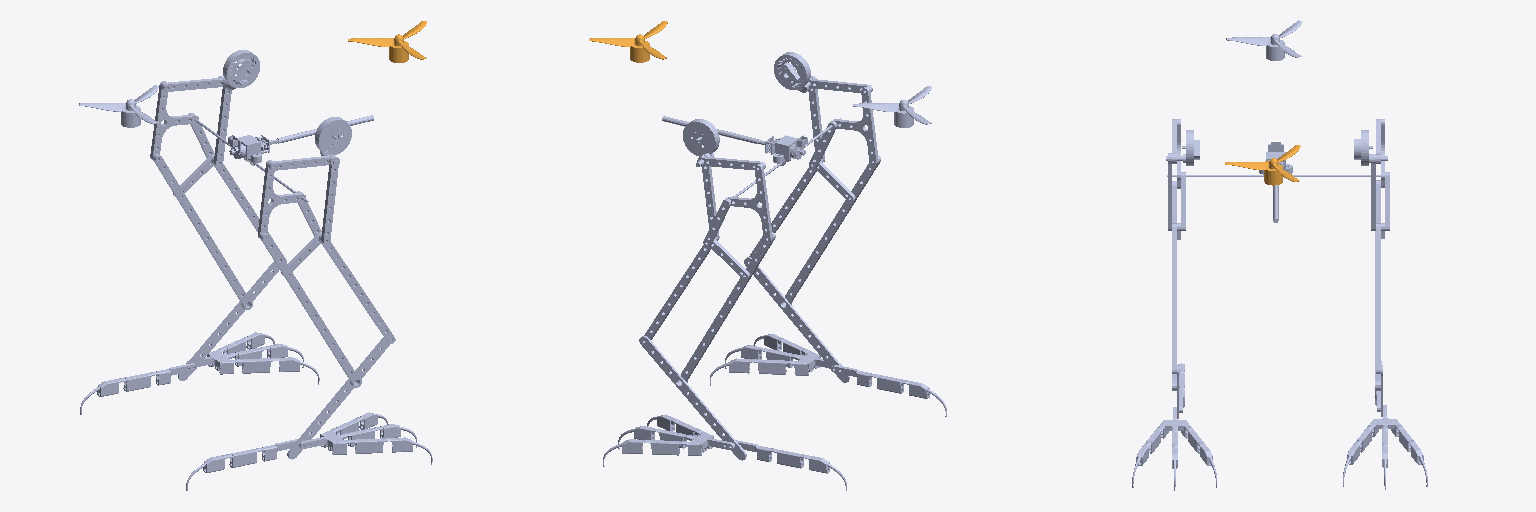
--- Facts derived from the render (not from the file) ---
3 views of the same robot in one strip: view 1: azimuth 30°, elevation 25°; view 2: azimuth 150°, elevation 25°; view 3: azimuth 270°, elevation 25° (orthographic).
Robot: Assem2for_urdf — 26 links, 25 joints (18 revolute, 4 continuous, 1 prismatic, 2 fixed); root link base_link; default pose: all joints at 0.
Visible links, largest first — view 1: foot_link_1, foot_link_2, link_BG_2, link_BG_1, link_TK, link_EH_1, link_EH_2, chilun_1, link_DE_1, rotor_1, rotor_2, link_AB_1 (+7 smaller); view 2: foot_link_2, foot_link_1, link_EH_2, link_TK, link_BG_2, link_BG_1, link_EH_1, chilun_2, link_AB_2, rotor_2, rotor_1, link_AB_1 (+6 smaller); view 3: foot_link_1, foot_link_2, link_TK, rotor_2, rotor_1, link_DE_1, link_DE_2.
Boxes of the visible links, <box> form: foot_link_1: <box>186,412,432,490</box>; foot_link_2: <box>80,332,319,414</box>; link_BG_2: <box>153,154,252,309</box>; link_BG_1: <box>260,233,361,387</box>; link_TK: <box>195,115,373,202</box>; link_EH_1: <box>287,337,389,459</box>; link_EH_2: <box>178,261,279,380</box>; chilun_1: <box>315,117,351,165</box>; link_DE_1: <box>319,235,395,343</box>; rotor_1: <box>348,21,426,62</box>; rotor_2: <box>79,85,158,127</box>; link_AB_1: <box>258,160,305,237</box>; foot_link_2: <box>603,414,846,490</box>; foot_link_1: <box>710,334,946,416</box>; link_EH_2: <box>639,336,746,460</box>; link_TK: <box>662,116,841,204</box>; link_BG_2: <box>678,232,775,384</box>; link_BG_1: <box>782,155,880,306</box>; link_EH_1: <box>744,257,849,382</box>; chilun_2: <box>683,119,719,166</box>; link_AB_2: <box>728,164,772,242</box>; rotor_2: <box>853,86,931,127</box>; rotor_1: <box>589,21,667,62</box>; link_AB_1: <box>833,87,878,165</box>; foot_link_1: <box>1132,363,1216,490</box>; foot_link_2: <box>1343,361,1427,489</box>; link_TK: <box>1167,142,1380,222</box>; rotor_2: <box>1226,20,1301,60</box>; rotor_1: <box>1225,145,1300,185</box>; link_DE_1: <box>1172,223,1176,373</box>; link_DE_2: <box>1376,223,1380,373</box>.
Bounding box of the posed robot: 0.2916 × 0.226 × 0.2945 m (x, y, z).
25 mesh visuals loaded from 26 distinct referenced files (25 binary STL); not drawn: 1 (reference not matched to a file when rendering).

The robot description file, URDF, robot "Assem2for_urdf":
<?xml version="1.0" encoding="utf-8"?>
<!-- This URDF was automatically created by SolidWorks to URDF Exporter! Originally created by Stephen Brawner ([email redacted]) 
     Commit Version: 1.6.0-4-g7f85cfe  Build Version: 1.6.7995.38578
     For more information, please see http://wiki.ros.org/sw_urdf_exporter -->
<robot
  name="Assem2for_urdf">
  
  <mujoco>
        <compiler 
        meshdir="../meshes/" 
        balanceinertia="true" 
        discardvisual="false" />
  </mujoco>
  
  
  <link
    name="base_link">
    <inertial>
      <origin
        xyz="0.01383 -7.6375E-05 -0.0088653"
        rpy="0 0 0" />
      <mass
        value="0.044953" />
      <inertia
        ixx="6.3617E-06"
        ixy="4.2749E-09"
        ixz="-9.6067E-10"
        iyy="3.2431E-05"
        iyz="4.0621E-09"
        izz="3.4835E-05" />
    </inertial>
    <visual>
      <origin
        xyz="0 0 0"
        rpy="0 0 0" />
      <geometry>
        <mesh
          filename="package://Assem2for_urdf/meshes/base_link.STL" />
      </geometry>
      <material
        name="">
        <color
          rgba="0.79216 0.81961 0.93333 1" />
      </material>
    </visual>
    <collision>
      <origin
        xyz="0 0 0"
        rpy="0 0 0" />
      <geometry>
        <mesh
          filename="package://Assem2for_urdf/meshes/base_link.STL" />
      </geometry>
    </collision>
  </link>
  <link
    name="jilun_right">
    <inertial>
      <origin
        xyz="0.022975 -0.061362 -0.016909"
        rpy="0 0 0" />
      <mass
        value="0.00086629" />
      <inertia
        ixx="1.3518E-08"
        ixy="-2.545E-10"
        ixz="4.0882E-10"
        iyy="2.1468E-08"
        iyz="-1.2227E-10"
        izz="1.6056E-08" />
    </inertial>
    <visual>
      <origin
        xyz="0 0 0"
        rpy="0 0 0" />
      <geometry>
        <mesh
          filename="package://Assem2for_urdf/meshes/jilun_right.STL" />
      </geometry>
      <material
        name="">
        <color
          rgba="0.79216 0.81961 0.93333 1" />
      </material>
    </visual>
    <collision>
      <origin
        xyz="0 0 0"
        rpy="0 0 0" />
      <geometry>
        <mesh
          filename="package://Assem2for_urdf/meshes/jilun_right.STL" />
      </geometry>
    </collision>
  </link>
  <joint
    name="joint_jilun_right"
    type="fixed">
    <origin
      xyz="0 0 0"
      rpy="0 0 0" />
    <parent
      link="base_link" />
    <child
      link="jilun_right" />
    <axis
      xyz="0 0 0" />
  </joint>
  <link
    name="chilun_1">
    <inertial>
      <origin
        xyz="0.0022183 -2.2192E-09 0.004453"
        rpy="0 0 0" />
      <mass
        value="0.0021421" />
      <inertia
        ixx="1.5537E-07"
        ixy="7.5064E-14"
        ixz="-2.7764E-08"
        iyy="2.159E-07"
        iyz="2.1494E-14"
        izz="3.1632E-07" />
    </inertial>
    <visual>
      <origin
        xyz="0 0 0"
        rpy="0 0 0" />
      <geometry>
        <mesh
          filename="package://Assem2for_urdf/meshes/chilun_1.STL" />
      </geometry>
      <material
        name="">
        <color
          rgba="0.79216 0.81961 0.93333 1" />
      </material>
    </visual>
    <collision>
      <origin
        xyz="0 0 0"
        rpy="0 0 0" />
      <geometry>
        <mesh
          filename="package://Assem2for_urdf/meshes/chilun_1.STL" />
      </geometry>
    </collision>
  </link>
  <joint
    name="joint_chilun_1"
    type="continuous">
    <origin
      xyz="0.023247 -0.0628 -0.0145"
      rpy="-1.5708 1.0104 -3.1416" />
    <parent
      link="jilun_right" />
    <child
      link="chilun_1" />
    <axis
      xyz="0 0 -1" />
  </joint>
  <link
    name="link_FA_1">
    <inertial>
      <origin
        xyz="0.0246333232557654 1.45621362190873E-13 0.00624999999978681"
        rpy="0 0 0" />
      <mass
        value="0.00105325753601572" />
      <inertia
        ixx="4.68108106964215E-09"
        ixy="-6.35378108017296E-23"
        ixz="6.61326597503312E-23"
        iyy="2.68987972561917E-07"
        iyz="3.65608046107849E-24"
        izz="2.71518652828861E-07" />
    </inertial>
    <visual>
      <origin
        xyz="0 0 0"
        rpy="0 0 0" />
      <geometry>
        <mesh
          filename="package://Assem2for_urdf/meshes/link_FA_1.STL" />
      </geometry>
      <material
        name="">
        <color
          rgba="0.792156862745098 0.819607843137255 0.933333333333333 1" />
      </material>
    </visual>
    <collision>
      <origin
        xyz="0 0 0"
        rpy="0 0 0" />
      <geometry>
        <mesh
          filename="package://Assem2for_urdf/meshes/link_FA_1.STL" />
      </geometry>
    </collision>
  </link>
  <joint
    name="joint_FA_1"
    type="revolute">
    <origin
      xyz="0.015 0 0.021"
      rpy="3.1416 0 -1.1439" />
    <parent
      link="chilun_1" />
    <child
      link="link_FA_1" />
    <axis
      xyz="0 0 -1" />
    <limit
      lower="0"
      upper="0"
      effort="0"
      velocity="0" />
  </joint>
  <link
    name="link_AB_1">
    <inertial>
      <origin
        xyz="0.0282463263721763 0.00564538612792358 -0.00175"
        rpy="0 0 0" />
      <mass
        value="0.00182763409338447" />
      <inertia
        ixx="1.58862057800838E-07"
        ixy="-7.01390587639972E-09"
        ixz="3.05014959485128E-23"
        iyy="3.62632855422073E-07"
        iyz="4.605957954204E-22"
        izz="5.17763493615584E-07" />
    </inertial>
    <visual>
      <origin
        xyz="0 0 0"
        rpy="0 0 0" />
      <geometry>
        <mesh
          filename="package://Assem2for_urdf/meshes/link_AB_1.STL" />
      </geometry>
      <material
        name="">
        <color
          rgba="0.792156862745098 0.819607843137255 0.933333333333333 1" />
      </material>
    </visual>
    <collision>
      <origin
        xyz="0 0 0"
        rpy="0 0 0" />
      <geometry>
        <mesh
          filename="package://Assem2for_urdf/meshes/link_AB_1.STL" />
      </geometry>
    </collision>
  </link>
  <joint
    name="joint_AB_1"
    type="revolute">
    <origin
      xyz="0.05 0 0.008"
      rpy="-3.1416 0 -1.5777" />
    <parent
      link="link_FA_1" />
    <child
      link="link_AB_1" />
    <axis
      xyz="0 0 1" />
    <limit
      lower="0"
      upper="0"
      effort="0"
      velocity="0" />
  </joint>
  <link
    name="link_BG_1">
    <inertial>
      <origin
        xyz="0.0768929529997299 -4.59077220682502E-14 0.00200000000021816"
        rpy="0 0 0" />
      <mass
        value="0.00359050030856375" />
      <inertia
        ixx="1.6349672466771E-08"
        ixy="-4.91345283856498E-22"
        ixz="-5.11425047457692E-22"
        iyy="7.49028146095683E-06"
        iyz="4.51428599720827E-25"
        izz="7.4970564659341E-06" />
    </inertial>
    <visual>
      <origin
        xyz="0 0 0"
        rpy="0 0 0" />
      <geometry>
        <mesh
          filename="package://Assem2for_urdf/meshes/link_BG_1.STL" />
      </geometry>
      <material
        name="">
        <color
          rgba="0.792156862745098 0.819607843137255 0.933333333333333 1" />
      </material>
    </visual>
    <collision>
      <origin
        xyz="0 0 0"
        rpy="0 0 0" />
      <geometry>
        <mesh
          filename="package://Assem2for_urdf/meshes/link_BG_1.STL" />
      </geometry>
    </collision>
  </link>
  <joint
    name="joint_BG_1"
    type="revolute">
    <origin
      xyz="0.0558 0 0"
      rpy="0 0 0.64657" />
    <parent
      link="link_AB_1" />
    <child
      link="link_BG_1" />
    <axis
      xyz="0 0 1" />
    <limit
      lower="0"
      upper="0"
      effort="0"
      velocity="0" />
  </joint>
  <link
    name="link_FD_1">
    <inertial>
      <origin
        xyz="0.0305971932030827 3.88231113923609E-14 -0.00275000000000106"
        rpy="0 0 0" />
      <mass
        value="0.0012859769511914" />
      <inertia
        ixx="5.66163764002029E-09"
        ixy="1.05465528100511E-22"
        ixz="4.45351821521352E-23"
        iyy="4.84773867218684E-07"
        iyz="1.24040124954197E-23"
        izz="4.87809968583355E-07" />
    </inertial>
    <visual>
      <origin
        xyz="0 0 0"
        rpy="0 0 0" />
      <geometry>
        <mesh
          filename="package://Assem2for_urdf/meshes/link_FD_1.STL" />
      </geometry>
      <material
        name="">
        <color
          rgba="0.792156862745098 0.819607843137255 0.933333333333333 1" />
      </material>
    </visual>
    <collision>
      <origin
        xyz="0 0 0"
        rpy="0 0 0" />
      <geometry>
        <mesh
          filename="package://Assem2for_urdf/meshes/link_FD_1.STL" />
      </geometry>
    </collision>
  </link>
  <joint
    name="joint_FD_1"
    type="revolute">
    <origin
      xyz="0.015 0 0.021"
      rpy="0 0 0.44354" />
    <parent
      link="chilun_1" />
    <child
      link="link_FD_1" />
    <axis
      xyz="0 0 1" />
    <limit
      lower="0"
      upper="0"
      effort="0"
      velocity="0" />
  </joint>
  <link
    name="link_DC_1">
    <inertial>
      <origin
        xyz="0.0183308082348174 1.79078973872038E-13 -0.00524999999999581"
        rpy="0 0 0" />
      <mass
        value="0.000778946680715672" />
      <inertia
        ixx="3.29759266495531E-09"
        ixy="-4.57017288435548E-23"
        ixz="2.25252285245537E-23"
        iyy="1.09437072463202E-07"
        iyz="2.29272390470318E-24"
        izz="1.11144315655029E-07" />
    </inertial>
    <visual>
      <origin
        xyz="0 0 0"
        rpy="0 0 0" />
      <geometry>
        <mesh
          filename="package://Assem2for_urdf/meshes/link_DC_1.STL" />
      </geometry>
      <material
        name="">
        <color
          rgba="0.792156862745098 0.819607843137255 0.933333333333333 1" />
      </material>
    </visual>
    <collision>
      <origin
        xyz="0 0 0"
        rpy="0 0 0" />
      <geometry>
        <mesh
          filename="package://Assem2for_urdf/meshes/link_DC_1.STL" />
      </geometry>
    </collision>
  </link>
  <joint
    name="joint_DC_1"
    type="revolute">
    <origin
      xyz="0.0619 0 -0.0045"
      rpy="0 0 -0.83095" />
    <parent
      link="link_FD_1" />
    <child
      link="link_DC_1" />
    <axis
      xyz="0 0 1" />
    <limit
      lower="0"
      upper="0"
      effort="0"
      velocity="0" />
  </joint>
  <link
    name="link_DE_1">
    <inertial>
      <origin
        xyz="0.0549831283740909 -6.49931497509471E-14 -0.00174999999996561"
        rpy="0 0 0" />
      <mass
        value="0.00221516317176975" />
      <inertia
        ixx="9.34136333722385E-09"
        ixy="-6.58849357898487E-22"
        ixz="-1.63839071886067E-22"
        iyy="2.436604063585E-06"
        iyz="1.35346460713052E-24"
        izz="2.44142280211319E-06" />
    </inertial>
    <visual>
      <origin
        xyz="0 0 0"
        rpy="0 0 0" />
      <geometry>
        <mesh
          filename="package://Assem2for_urdf/meshes/link_DE_1.STL" />
      </geometry>
      <material
        name="">
        <color
          rgba="0.792156862745098 0.819607843137255 0.933333333333333 1" />
      </material>
    </visual>
    <collision>
      <origin
        xyz="0 0 0"
        rpy="0 0 0" />
      <geometry>
        <mesh
          filename="package://Assem2for_urdf/meshes/link_DE_1.STL" />
      </geometry>
    </collision>
  </link>
  <joint
    name="joint_DE_1"
    type="revolute">
    <origin
      xyz="0.0619 0 -0.0045"
      rpy="0 0 0.6597" />
    <parent
      link="link_FD_1" />
    <child
      link="link_DE_1" />
    <axis
      xyz="0 0 1" />
    <limit
      lower="0"
      upper="0"
      effort="0"
      velocity="0" />
  </joint>
  <link
    name="link_EH_1">
    <inertial>
      <origin
        xyz="0.0555555680512242 0 0.000999999999999973"
        rpy="0 0 0" />
      <mass
        value="0.00172856836550083" />
      <inertia
        ixx="1.02647415675761E-08"
        ixy="-4.87209380793733E-22"
        ixz="-2.64644119038406E-22"
        iyy="1.99782860596515E-06"
        iyz="1.85485309027581E-23"
        izz="2.00694096862239E-06" />
    </inertial>
    <visual>
      <origin
        xyz="0 0 0"
        rpy="0 0 0" />
      <geometry>
        <mesh
          filename="package://Assem2for_urdf/meshes/link_EH_1.STL" />
      </geometry>
      <material
        name="">
        <color
          rgba="0.792156862745098 0.819607843137255 0.933333333333333 1" />
      </material>
    </visual>
    <collision>
      <origin
        xyz="0 0 0"
        rpy="0 0 0" />
      <geometry>
        <mesh
          filename="package://Assem2for_urdf/meshes/link_EH_1.STL" />
      </geometry>
    </collision>
  </link>
  <joint
    name="joint_EH_1"
    type="revolute">
    <origin
      xyz="0.11 0 -0.0055"
      rpy="0 0 -1.3718" />
    <parent
      link="link_DE_1" />
    <child
      link="link_EH_1" />
    <axis
      xyz="0 0 1" />
    <limit
      lower="0"
      upper="0"
      effort="0"
      velocity="0" />
  </joint>
  <link
    name="foot_link_1">
    <inertial>
      <origin
        xyz="0.0241979475068316 -0.00295431788670633 0.00220249728251601"
        rpy="0 0 0" />
      <mass
        value="0.00779860283571665" />
      <inertia
        ixx="1.32660666469823E-06"
        ixy="4.67049796891614E-08"
        ixz="-3.52628898020332E-12"
        iyy="4.90887427618285E-06"
        iyz="1.41970664171107E-10"
        izz="3.74277302164067E-06" />
    </inertial>
    <visual>
      <origin
        xyz="0 0 0"
        rpy="0 0 0" />
      <geometry>
        <mesh
          filename="package://Assem2for_urdf/meshes/foot_link_1.STL" />
      </geometry>
      <material
        name="">
        <color
          rgba="0.792156862745098 0.819607843137255 0.933333333333333 1" />
      </material>
    </visual>
    <collision>
      <origin
        xyz="0 0 0"
        rpy="0 0 0" />
      <geometry>
        <mesh
          filename="package://Assem2for_urdf/meshes/foot_link_1.STL" />
      </geometry>
    </collision>
  </link>
  <joint
    name="joint_foot_1"
    type="revolute">
    <origin
      xyz="0.1005 0 0"
      rpy="0 0 2.362" />
    <parent
      link="link_EH_1" />
    <child
      link="foot_link_1" />
    <axis
      xyz="0 0 1" />
    <limit
      lower="0"
      upper="0"
      effort="0"
      velocity="0" />
  </joint>
  <link
    name="link_TK">
    <inertial>
      <origin
        xyz="0.011254416729477 0.00870593530813178 -0.000213353631255166"
        rpy="0 0 0" />
      <mass
        value="0.005193221469128" />
      <inertia
        ixx="1.40931785026129E-06"
        ixy="3.53282463559805E-08"
        ixz="-9.11084204655225E-11"
        iyy="5.01708865198891E-06"
        iyz="3.07013904106478E-10"
        izz="3.68575837675166E-06" />
    </inertial>
    <visual>
      <origin
        xyz="0 0 0"
        rpy="0 0 0" />
      <geometry>
        <mesh
          filename="package://Assem2for_urdf/meshes/link_TK.STL" />
      </geometry>
      <material
        name="">
        <color
          rgba="0.792156862745098 0.819607843137255 0.933333333333333 1" />
      </material>
    </visual>
    <collision>
      <origin
        xyz="0 0 0"
        rpy="0 0 0" />
      <geometry>
        <mesh
          filename="package://Assem2for_urdf/meshes/link_TK.STL" />
      </geometry>
    </collision>
  </link>
  <joint
    name="joint_TK"
    type="prismatic">
    <origin
      xyz="-0.0084101 0 -0.053"
      rpy="1.5708 0 0" />
    <parent
      link="base_link" />
    <child
      link="link_TK" />
    <axis
      xyz="1 0 0" />
    <limit
      lower="0"
      upper="0"
      effort="0"
      velocity="0" />
  </joint>
  <link
    name="link_KD_1">
    <inertial>
      <origin
        xyz="0.0196511163534947 -8.90017226584661E-14 -0.0052500000000536"
        rpy="0 0 0" />
      <mass
        value="0.00083354668071567" />
      <inertia
        ixx="3.51713016495529E-09"
        ixy="1.05465528100511E-23"
        ixz="-5.99644069589385E-23"
        iyy="1.33344494294091E-07"
        iyz="-1.62376674919852E-24"
        izz="1.35159799985918E-07" />
    </inertial>
    <visual>
      <origin
        xyz="0 0 0"
        rpy="0 0 0" />
      <geometry>
        <mesh
          filename="package://Assem2for_urdf/meshes/link_KD_1.STL" />
      </geometry>
      <material
        name="">
        <color
          rgba="0.792156862745098 0.819607843137255 0.933333333333333 1" />
      </material>
    </visual>
    <collision>
      <origin
        xyz="0 0 0"
        rpy="0 0 0" />
      <geometry>
        <mesh
          filename="package://Assem2for_urdf/meshes/link_KD_1.STL" />
      </geometry>
    </collision>
  </link>
  <joint
    name="joint_KD_1"
    type="revolute">
    <origin
      xyz="0 0 0.0758"
      rpy="0 0 -1.1384" />
    <parent
      link="link_TK" />
    <child
      link="link_KD_1" />
    <axis
      xyz="0 0 -1" />
    <limit
      lower="0"
      upper="0"
      effort="0"
      velocity="0" />
  </joint>
  <link
    name="link_KD_2">
    <inertial>
      <origin
        xyz="0.0196511163529499 5.87835335963405E-13 0.00525000000070104"
        rpy="0 0 0" />
      <mass
        value="0.000833546680715672" />
      <inertia
        ixx="3.5171301649553E-09"
        ixy="-2.016252743098E-23"
        ixz="-1.84856832986433E-24"
        iyy="1.33344494294091E-07"
        iyz="2.82062920033513E-24"
        izz="1.35159799985918E-07" />
    </inertial>
    <visual>
      <origin
        xyz="0 0 0"
        rpy="0 0 0" />
      <geometry>
        <mesh
          filename="package://Assem2for_urdf/meshes/link_KD_2.STL" />
      </geometry>
      <material
        name="">
        <color
          rgba="0.792156862745098 0.819607843137255 0.933333333333333 1" />
      </material>
    </visual>
    <collision>
      <origin
        xyz="0 0 0"
        rpy="0 0 0" />
      <geometry>
        <mesh
          filename="package://Assem2for_urdf/meshes/link_KD_2.STL" />
      </geometry>
    </collision>
  </link>
  <joint
    name="joint_KD_2"
    type="revolute">
    <origin
      xyz="0 0 -0.08"
      rpy="-3.1416 0 -1.1473" />
    <parent
      link="link_TK" />
    <child
      link="link_KD_2" />
    <axis
      xyz="0 0 1" />
    <limit
      lower="0"
      upper="0"
      effort="0"
      velocity="0" />
  </joint>
  <link
    name="jilun_left">
    <inertial>
      <origin
        xyz="0.0261522898502984 0.0635617576097662 -0.0137649945988409"
        rpy="0 0 0" />
      <mass
        value="0.000866292548484724" />
      <inertia
        ixx="1.60069370693742E-08"
        ixy="-1.4407040983176E-10"
        ixz="4.92305017577628E-10"
        iyy="2.1467751795001E-08"
        iyz="-2.42733876740918E-10"
        izz="1.35665058607585E-08" />
    </inertial>
    <visual>
      <origin
        xyz="0 0 0"
        rpy="0 0 0" />
      <geometry>
        <mesh
          filename="package://Assem2for_urdf/meshes/jilun_left.STL" />
      </geometry>
      <material
        name="">
        <color
          rgba="0.792156862745098 0.819607843137255 0.933333333333333 1" />
      </material>
    </visual>
    <collision>
      <origin
        xyz="0 0 0"
        rpy="0 0 0" />
      <geometry>
        <mesh
          filename="package://Assem2for_urdf/meshes/jilun_left.STL" />
      </geometry>
    </collision>
  </link>
  <joint
    name="joint_jilun_2"
    type="fixed">
    <origin
      xyz="0 0 0"
      rpy="0 0 0" />
    <parent
      link="base_link" />
    <child
      link="jilun_left" />
    <axis
      xyz="0 0 0" />
  </joint>
  <link
    name="chilun_2">
    <inertial>
      <origin
        xyz="0.00221825193379142 -7.79833427000387E-10 -0.0015470399820611"
        rpy="0 0 0" />
      <mass
        value="0.00214207068196765" />
      <inertia
        ixx="1.55372521830095E-07"
        ixy="5.24567265806098E-14"
        ixz="-2.77642955441482E-08"
        iyy="2.15896780713747E-07"
        iyz="1.23796125905471E-14"
        izz="3.16319167574468E-07" />
    </inertial>
    <visual>
      <origin
        xyz="0 0 0"
        rpy="0 0 0" />
      <geometry>
        <mesh
          filename="package://Assem2for_urdf/meshes/chilun_2.STL" />
      </geometry>
      <material
        name="">
        <color
          rgba="0.792156862745098 0.819607843137255 0.933333333333333 1" />
      </material>
    </visual>
    <collision>
      <origin
        xyz="0 0 0"
        rpy="0 0 0" />
      <geometry>
        <mesh
          filename="package://Assem2for_urdf/meshes/chilun_2.STL" />
      </geometry>
    </collision>
  </link>
  <joint
    name="joint_chilun_2"
    type="continuous">
    <origin
      xyz="0.023247 0.071 -0.0145"
      rpy="1.5708 1.0401 -3.1416" />
    <parent
      link="jilun_left" />
    <child
      link="chilun_2" />
    <axis
      xyz="0 0 1" />
  </joint>
  <link
    name="link_FA_2">
    <inertial>
      <origin
        xyz="0.0246333232556161 1.84468759711898E-13 0.00174999999948889"
        rpy="0 0 0" />
      <mass
        value="0.00105325753601572" />
      <inertia
        ixx="4.68108106964215E-09"
        ixy="-2.01108286426955E-23"
        ixz="2.02383303614685E-25"
        iyy="2.68987972561917E-07"
        iyz="2.46077804342788E-24"
        izz="2.71518652828861E-07" />
    </inertial>
    <visual>
      <origin
        xyz="0 0 0"
        rpy="0 0 0" />
      <geometry>
        <mesh
          filename="package://Assem2for_urdf/meshes/link_FA_2.STL" />
      </geometry>
      <material
        name="">
        <color
          rgba="0.792156862745098 0.819607843137255 0.933333333333333 1" />
      </material>
    </visual>
    <collision>
      <origin
        xyz="0 0 0"
        rpy="0 0 0" />
      <geometry>
        <mesh
          filename="package://Assem2for_urdf/meshes/link_FA_2.STL" />
      </geometry>
    </collision>
  </link>
  <joint
    name="joint_FA_2"
    type="revolute">
    <origin
      xyz="0.015 0 0.0055"
      rpy="0 0 1.1856" />
    <parent
      link="chilun_2" />
    <child
      link="link_FA_2" />
    <axis
      xyz="0 0 1" />
    <limit
      lower="0"
      upper="0"
      effort="0"
      velocity="0" />
  </joint>
  <link
    name="link_AB_2">
    <inertial>
      <origin
        xyz="0.0282463263721763 -0.00564538612792359 0.00175000000000001"
        rpy="0 0 0" />
      <mass
        value="0.00182763409338448" />
      <inertia
        ixx="1.58862057800839E-07"
        ixy="7.01390587639967E-09"
        ixz="-2.1710713600792E-23"
        iyy="3.62632855422074E-07"
        iyz="4.28355034898309E-22"
        izz="5.17763493615586E-07" />
    </inertial>
    <visual>
      <origin
        xyz="0 0 0"
        rpy="0 0 0" />
      <geometry>
        <mesh
          filename="package://Assem2for_urdf/meshes/link_AB_2.STL" />
      </geometry>
      <material
        name="">
        <color
          rgba="0.792156862745098 0.819607843137255 0.933333333333333 1" />
      </material>
    </visual>
    <collision>
      <origin
        xyz="0 0 0"
        rpy="0 0 0" />
      <geometry>
        <mesh
          filename="package://Assem2for_urdf/meshes/link_AB_2.STL" />
      </geometry>
    </collision>
  </link>
  <joint
    name="joint_AB_2"
    type="revolute">
    <origin
      xyz="0.05 0 0.0035"
      rpy="0 0 -1.5755" />
    <parent
      link="link_FA_2" />
    <child
      link="link_AB_2" />
    <axis
      xyz="0 0 -1" />
    <limit
      lower="0"
      upper="0"
      effort="0"
      velocity="0" />
  </joint>
  <link
    name="link_BG_2">
    <inertial>
      <origin
        xyz="0.0768929529978424 -6.38378239159465E-16 -0.0020000000016149"
        rpy="0 0 0" />
      <mass
        value="0.00359050030856375" />
      <inertia
        ixx="1.63496724667722E-08"
        ixy="-1.66263303123159E-22"
        ixz="6.4763231597936E-23"
        iyy="7.49028146095683E-06"
        iyz="1.97360014647639E-23"
        izz="7.4970564659341E-06" />
    </inertial>
    <visual>
      <origin
        xyz="0 0 0"
        rpy="0 0 0" />
      <geometry>
        <mesh
          filename="package://Assem2for_urdf/meshes/link_BG_2.STL" />
      </geometry>
      <material
        name="">
        <color
          rgba="0.792156862745098 0.819607843137255 0.933333333333333 1" />
      </material>
    </visual>
    <collision>
      <origin
        xyz="0 0 0"
        rpy="0 0 0" />
      <geometry>
        <mesh
          filename="package://Assem2for_urdf/meshes/link_BG_2.STL" />
      </geometry>
    </collision>
  </link>
  <joint
    name="joint_BG_2"
    type="revolute">
    <origin
      xyz="0.0558 0 0"
      rpy="0 0 -0.65182" />
    <parent
      link="link_AB_2" />
    <child
      link="link_BG_2" />
    <axis
      xyz="0 0 -1" />
    <limit
      lower="0"
      upper="0"
      effort="0"
      velocity="0" />
  </joint>
  <link
    name="link_FD_2">
    <inertial>
      <origin
        xyz="0.0305971932030887 0 -0.00175"
        rpy="0 0 0" />
      <mass
        value="0.0012859769511914" />
      <inertia
        ixx="5.66163764002032E-09"
        ixy="-5.53694022527683E-23"
        ixz="7.56439099355873E-24"
        iyy="4.84773867218686E-07"
        iyz="9.92107584397864E-24"
        izz="4.87809968583357E-07" />
    </inertial>
    <visual>
      <origin
        xyz="0 0 0"
        rpy="0 0 0" />
      <geometry>
        <mesh
          filename="package://Assem2for_urdf/meshes/link_FD_2.STL" />
      </geometry>
      <material
        name="">
        <color
          rgba="0.792156862745098 0.819607843137255 0.933333333333333 1" />
      </material>
    </visual>
    <collision>
      <origin
        xyz="0 0 0"
        rpy="0 0 0" />
      <geometry>
        <mesh
          filename="package://Assem2for_urdf/meshes/link_FD_2.STL" />
      </geometry>
    </collision>
  </link>
  <joint
    name="joint_FD_2"
    type="revolute">
    <origin
      xyz="0.015 0 0.0055"
      rpy="0 0 -0.40246" />
    <parent
      link="chilun_2" />
    <child
      link="link_FD_2" />
    <axis
      xyz="0 0 1" />
    <limit
      lower="0"
      upper="0"
      effort="0"
      velocity="0" />
  </joint>
  <link
    name="link_DC_2">
    <inertial>
      <origin
        xyz="0.0183308082343956 -1.70836955692977E-12 0.00524999999968589"
        rpy="0 0 0" />
      <mass
        value="0.000778946680715672" />
      <inertia
        ixx="3.29759266495532E-09"
        ixy="3.4638188150658E-23"
        ixz="2.37034548175916E-24"
        iyy="1.09437072463202E-07"
        iyz="5.27444779291088E-24"
        izz="1.11144315655029E-07" />
    </inertial>
    <visual>
      <origin
        xyz="0 0 0"
        rpy="0 0 0" />
      <geometry>
        <mesh
          filename="package://Assem2for_urdf/meshes/link_DC_2.STL" />
      </geometry>
      <material
        name="">
        <color
          rgba="0.792156862745098 0.819607843137255 0.933333333333333 1" />
      </material>
    </visual>
    <collision>
      <origin
        xyz="0 0 0"
        rpy="0 0 0" />
      <geometry>
        <mesh
          filename="package://Assem2for_urdf/meshes/link_DC_2.STL" />
      </geometry>
    </collision>
  </link>
  <joint
    name="joint_DC_2"
    type="revolute">
    <origin
      xyz="0.0619 0 0"
      rpy="0 0 0.83431" />
    <parent
      link="link_FD_2" />
    <child
      link="link_DC_2" />
    <axis
      xyz="0 0 -1" />
    <limit
      lower="0"
      upper="0"
      effort="0"
      velocity="0" />
  </joint>
  <link
    name="link_DE_2">
    <inertial>
      <origin
        xyz="0.0549831283730517 4.0433975612153E-13 0.00175000000002811"
        rpy="0 0 0" />
      <mass
        value="0.00221516317176975" />
      <inertia
        ixx="9.34136333722379E-09"
        ixy="6.67534754330293E-22"
        ixz="1.87613579443349E-23"
        iyy="2.436604063585E-06"
        iyz="6.8971057499875E-24"
        izz="2.44142280211319E-06" />
    </inertial>
    <visual>
      <origin
        xyz="0 0 0"
        rpy="0 0 0" />
      <geometry>
        <mesh
          filename="package://Assem2for_urdf/meshes/link_DE_2.STL" />
      </geometry>
      <material
        name="">
        <color
          rgba="0.792156862745098 0.819607843137255 0.933333333333333 1" />
      </material>
    </visual>
    <collision>
      <origin
        xyz="0 0 0"
        rpy="0 0 0" />
      <geometry>
        <mesh
          filename="package://Assem2for_urdf/meshes/link_DE_2.STL" />
      </geometry>
    </collision>
  </link>
  <joint
    name="joint_DE_2"
    type="revolute">
    <origin
      xyz="0.0619 0 0"
      rpy="0 0 -0.66234" />
    <parent
      link="link_FD_2" />
    <child
      link="link_DE_2" />
    <axis
      xyz="0 0 -1" />
    <limit
      lower="0"
      upper="0"
      effort="0"
      velocity="0" />
  </joint>
  <link
    name="link_EH_2">
    <inertial>
      <origin
        xyz="0.0555555680512243 0 -0.000999999999999997"
        rpy="0 0 0" />
      <mass
        value="0.00172856836550083" />
      <inertia
        ixx="1.0264741567577E-08"
        ixy="4.66529865479908E-22"
        ixz="-6.46793264039482E-23"
        iyy="1.99782860596515E-06"
        iyz="2.11779464715671E-23"
        izz="2.00694096862239E-06" />
    </inertial>
    <visual>
      <origin
        xyz="0 0 0"
        rpy="0 0 0" />
      <geometry>
        <mesh
          filename="package://Assem2for_urdf/meshes/link_EH_2.STL" />
      </geometry>
      <material
        name="">
        <color
          rgba="0.792156862745098 0.819607843137255 0.933333333333333 1" />
      </material>
    </visual>
    <collision>
      <origin
        xyz="0 0 0"
        rpy="0 0 0" />
      <geometry>
        <mesh
          filename="package://Assem2for_urdf/meshes/link_EH_2.STL" />
      </geometry>
    </collision>
  </link>
  <joint
    name="joint_EH_2"
    type="revolute">
    <origin
      xyz="0.11 0 0.0055"
      rpy="0 0 1.3774" />
    <parent
      link="link_DE_2" />
    <child
      link="link_EH_2" />
    <axis
      xyz="0 0 -1" />
    <limit
      lower="0"
      upper="0"
      effort="0"
      velocity="0" />
  </joint>
  <link
    name="foot_link_2">
    <inertial>
      <origin
        xyz="0.0241979448400468 0.00295431761402801 0.00019144646372669"
        rpy="0 0 0" />
      <mass
        value="0.00779860336047693" />
      <inertia
        ixx="1.32660666825665E-06"
        ixy="-4.67049720209643E-08"
        ixz="3.54120285424341E-12"
        iyy="4.90887434331488E-06"
        iyz="1.41968407459804E-10"
        izz="3.74277311588285E-06" />
    </inertial>
    <visual>
      <origin
        xyz="0 0 0"
        rpy="0 0 0" />
      <geometry>
        <mesh
          filename="package://Assem2for_urdf/meshes/foot_link_2.STL" />
      </geometry>
      <material
        name="">
        <color
          rgba="0.792156862745098 0.819607843137255 0.933333333333333 1" />
      </material>
    </visual>
    <collision>
      <origin
        xyz="0 0 0"
        rpy="0 0 0" />
      <geometry>
        <mesh
          filename="package://Assem2for_urdf/meshes/foot_link_2.STL" />
      </geometry>
    </collision>
  </link>
  <joint
    name="joint_foot_2"
    type="revolute">
    <origin
      xyz="0.1005 0 0"
      rpy="0 0 -2.3696" />
    <parent
      link="link_EH_2" />
    <child
      link="foot_link_2" />
    <axis
      xyz="0 0 -1" />
    <limit
      lower="0"
      upper="0"
      effort="0"
      velocity="0" />
  </joint>
  <link
    name="rotor_1">
    <inertial>
      <origin
        xyz="6.05330095826417E-07 2.95976439551593E-07 -0.00313587033118078"
        rpy="0 0 0" />
      <mass
        value="0.0028231661913397" />
      <inertia
        ixx="2.04358846857938E-07"
        ixy="-1.48339973403145E-11"
        ixz="-8.34790164017854E-13"
        iyy="2.04399542028186E-07"
        iyz="-1.531092014973E-13"
        izz="3.61116702954305E-07" />
    </inertial>
    <visual>
      <origin
        xyz="0 0 0"
        rpy="0 0 0" />
      <geometry>
        <mesh
          filename="package://Assem2for_urdf/meshes/rotor_1.STL" />
      </geometry>
      <material
        name="">
        <color
          rgba="0.992156862745098 0.717647058823529 0.325490196078431 1" />
      </material>
    </visual>
    <collision>
      <origin
        xyz="0 0 0"
        rpy="0 0 0" />
      <geometry>
        <mesh
          filename="package://Assem2for_urdf/meshes/rotor_1.STL" />
      </geometry>
    </collision>
  </link>
  <joint
    name="joint_rotor_1"
    type="continuous">
    <origin
      xyz="0.11546 -0.0016528 0.0119"
      rpy="0 0 0" />
    <parent
      link="base_link" />
    <child
      link="rotor_1" />
    <axis
      xyz="0 0 1" />
  </joint>
  <link
    name="rotor_2">
    <inertial>
      <origin
        xyz="6.17505558492271E-07 3.1627201033807E-07 -0.00313589602309787"
        rpy="0 0 0" />
      <mass
        value="0.00282315533697598" />
      <inertia
        ixx="2.04358558289596E-07"
        ixy="-1.44151235288072E-11"
        ixz="-8.57915673649076E-13"
        iyy="2.04399438878688E-07"
        iyz="-2.06967221809784E-13"
        izz="3.61116344103479E-07" />
    </inertial>
    <visual>
      <origin
        xyz="0 0 0"
        rpy="0 0 0" />
      <geometry>
        <mesh
          filename="package://Assem2for_urdf/meshes/rotor_2.STL" />
      </geometry>
      <material
        name="">
        <color
          rgba="0.792156862745098 0.819607843137255 0.933333333333333 1" />
      </material>
    </visual>
    <collision>
      <origin
        xyz="0 0 0"
        rpy="0 0 0" />
      <geometry>
        <mesh
          filename="package://Assem2for_urdf/meshes/rotor_2.STL" />
      </geometry>
    </collision>
  </link>
  <joint
    name="joint_rotor_2"
    type="continuous">
    <origin
      xyz="-0.10936 -0.00038115 0.0119"
      rpy="0 0 0" />
    <parent
      link="base_link" />
    <child
      link="rotor_2" />
    <axis
      xyz="0 0 1" />
  </joint>
</robot>
